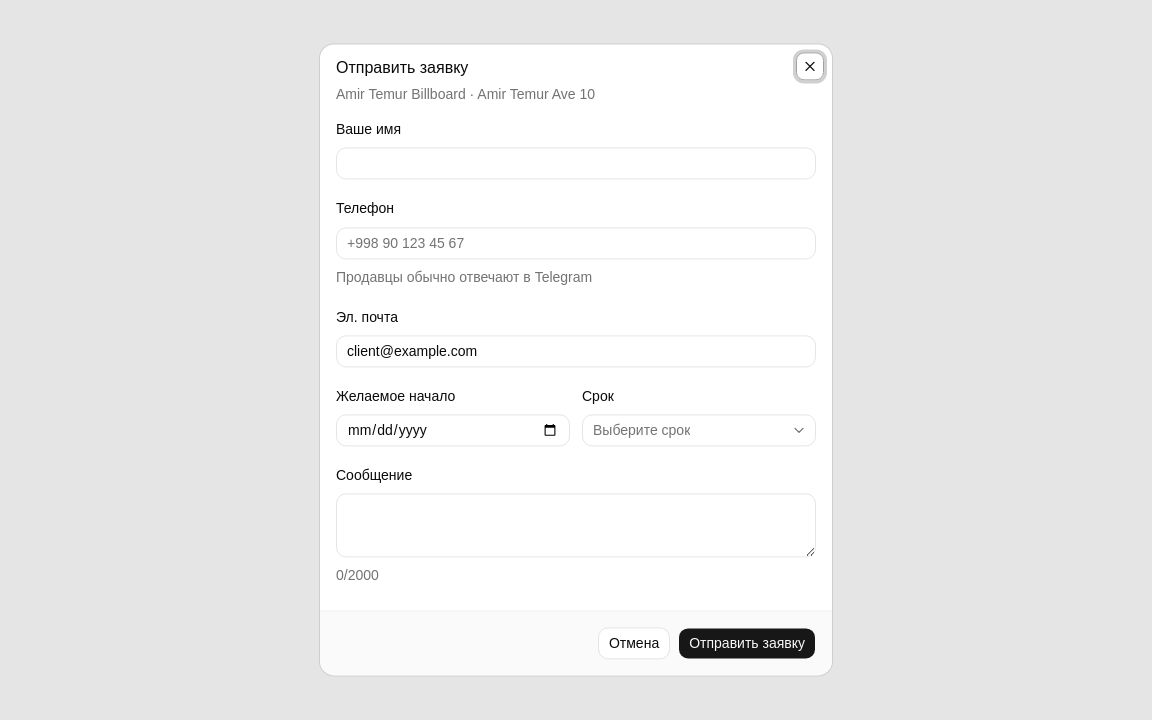
Scenario: the inquiry form in Russian › counts the duration options the way Russian counts
The image size is (1152, 720).
Click the dropdown labelled "срок" at (699, 430), box 582,414 -> 816,446
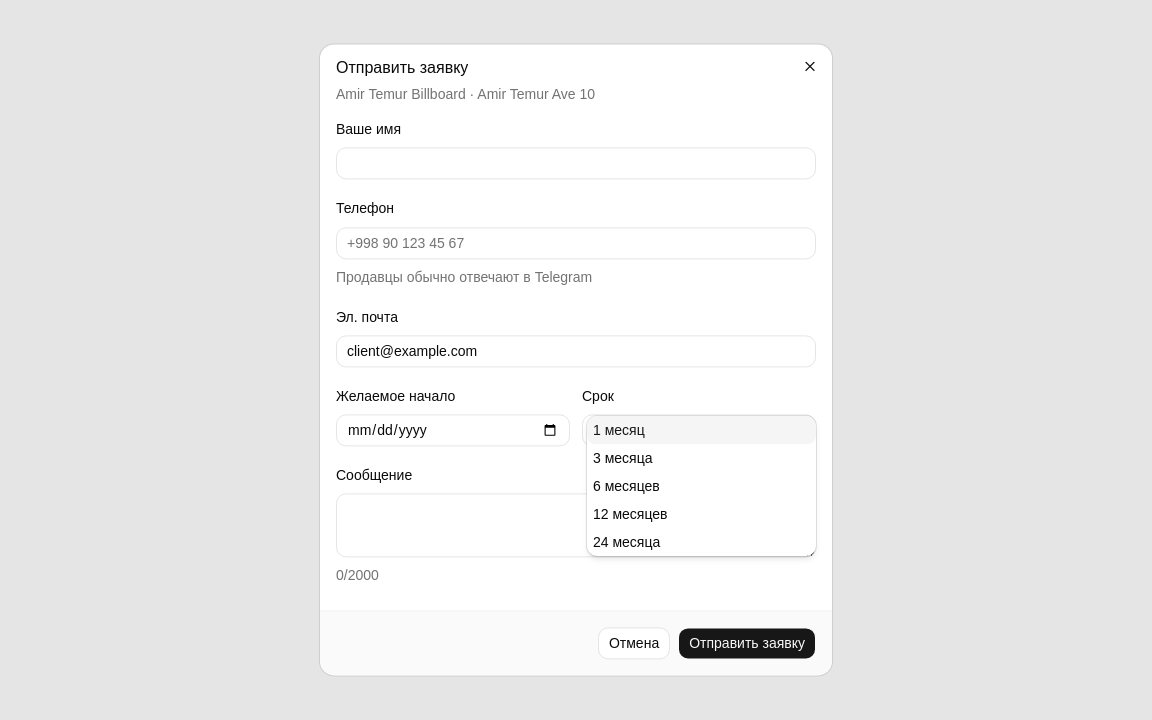
Check: the option "1 месяц" is shown, box 587,416 -> 816,444
Check: the option "3 месяца" is shown, box 593,450 -> 652,466
Check: the option "6 месяцев" is shown, box 593,478 -> 660,494
